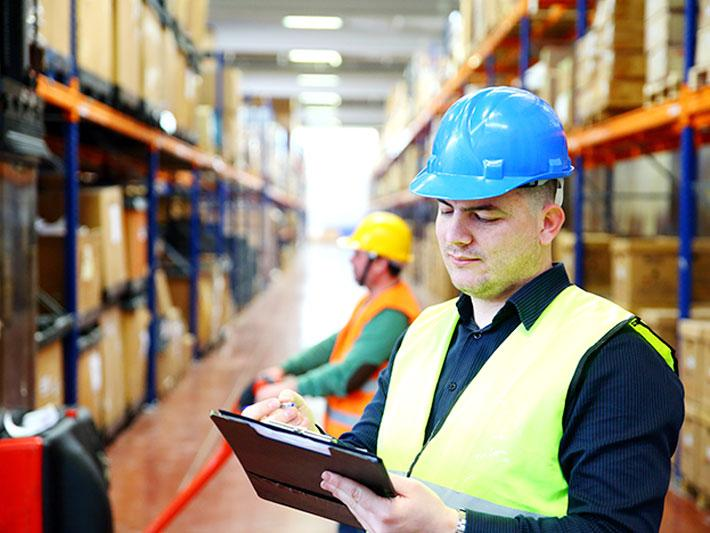helmet: (412, 87, 574, 202), (347, 214, 419, 264)
